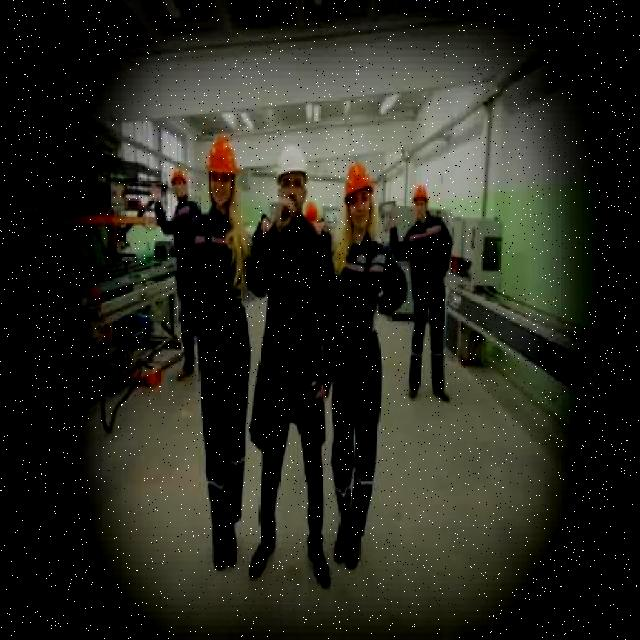Helmet: (206, 136, 242, 176), (273, 143, 310, 180), (344, 161, 374, 201), (413, 186, 429, 202), (171, 170, 186, 184), (307, 202, 318, 220)
Mask: (326, 234, 408, 546), (178, 207, 253, 535), (388, 213, 454, 390), (152, 197, 202, 357)
